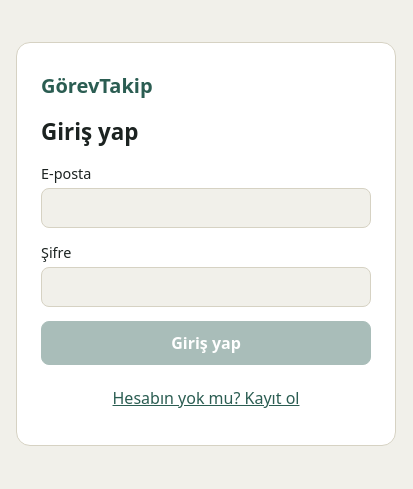
Test case: AuthForm: kayıt modu › moda geçince eski hata silinir, yazılan e-posta korunur; geri dönülebilir
This screenshot has width=413, height=489.
Step 1. Type "ali@ornek.com" into the field labelled "E-posta" → [206, 208], box 41,188 -> 371,228
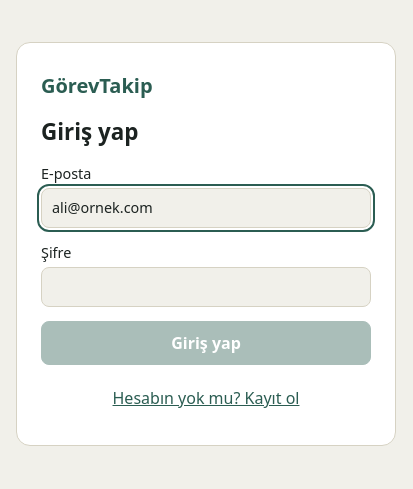
Step 2. Type "yanlis" into the password field labelled "Şifre" → [206, 287], box 41,267 -> 371,307
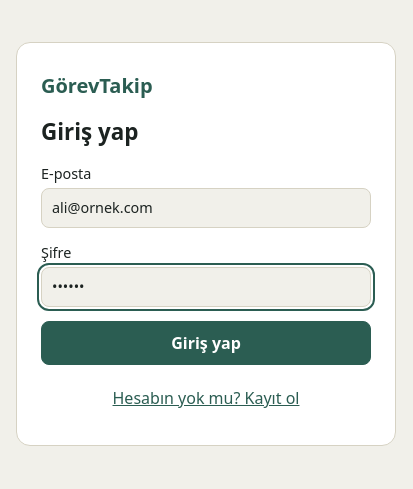
Step 3. Click the button "Giriş yap" → [206, 343], box 41,321 -> 371,365
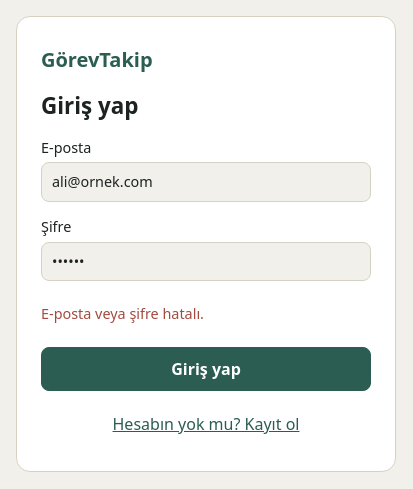
Result: the message "E-posta veya şifre hatalı." is shown at 41,304 -> 204,323
Step 4. Click the button "Hesabın yok mu? Kayıt ol" → [206, 424], box 41,405 -> 371,443
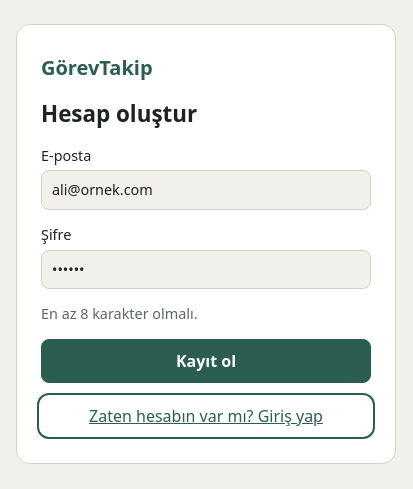
Result: the message "E-posta veya şifre hatalı." is gone
Step 5. Click the button "Zaten hesabın var mı? Giriş yap" → [206, 416], box 41,397 -> 371,435
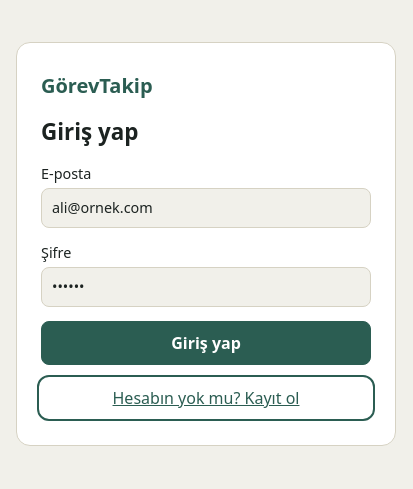
Result: the heading "Giriş yap" is shown at 41,116 -> 138,147
